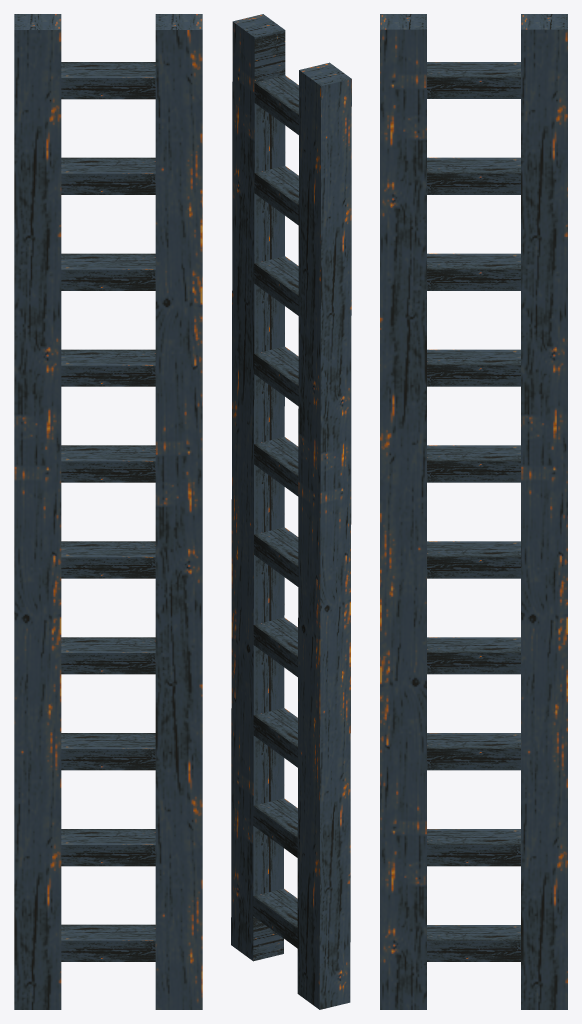
Rendered from woodenLadder.fbx.
The picture shows the model from 3 angles, left to right: view 1: azimuth 90°, elevation 25°; view 2: azimuth 210°, elevation 25°; view 3: azimuth 270°, elevation 25°; orthographic projection. The views are drawn at different scales.
Parts seen in each view (by area): view 1: woodenLadder; view 2: woodenLadder; view 3: woodenLadder.
Part boxes in pixels (x1,y1,x2,y2): woodenLadder: (14,14,202,1009); woodenLadder: (231,14,351,1009); woodenLadder: (380,14,567,1009).
Size of the model in its own units: 0.2358 by 6.47 by 1.12.
